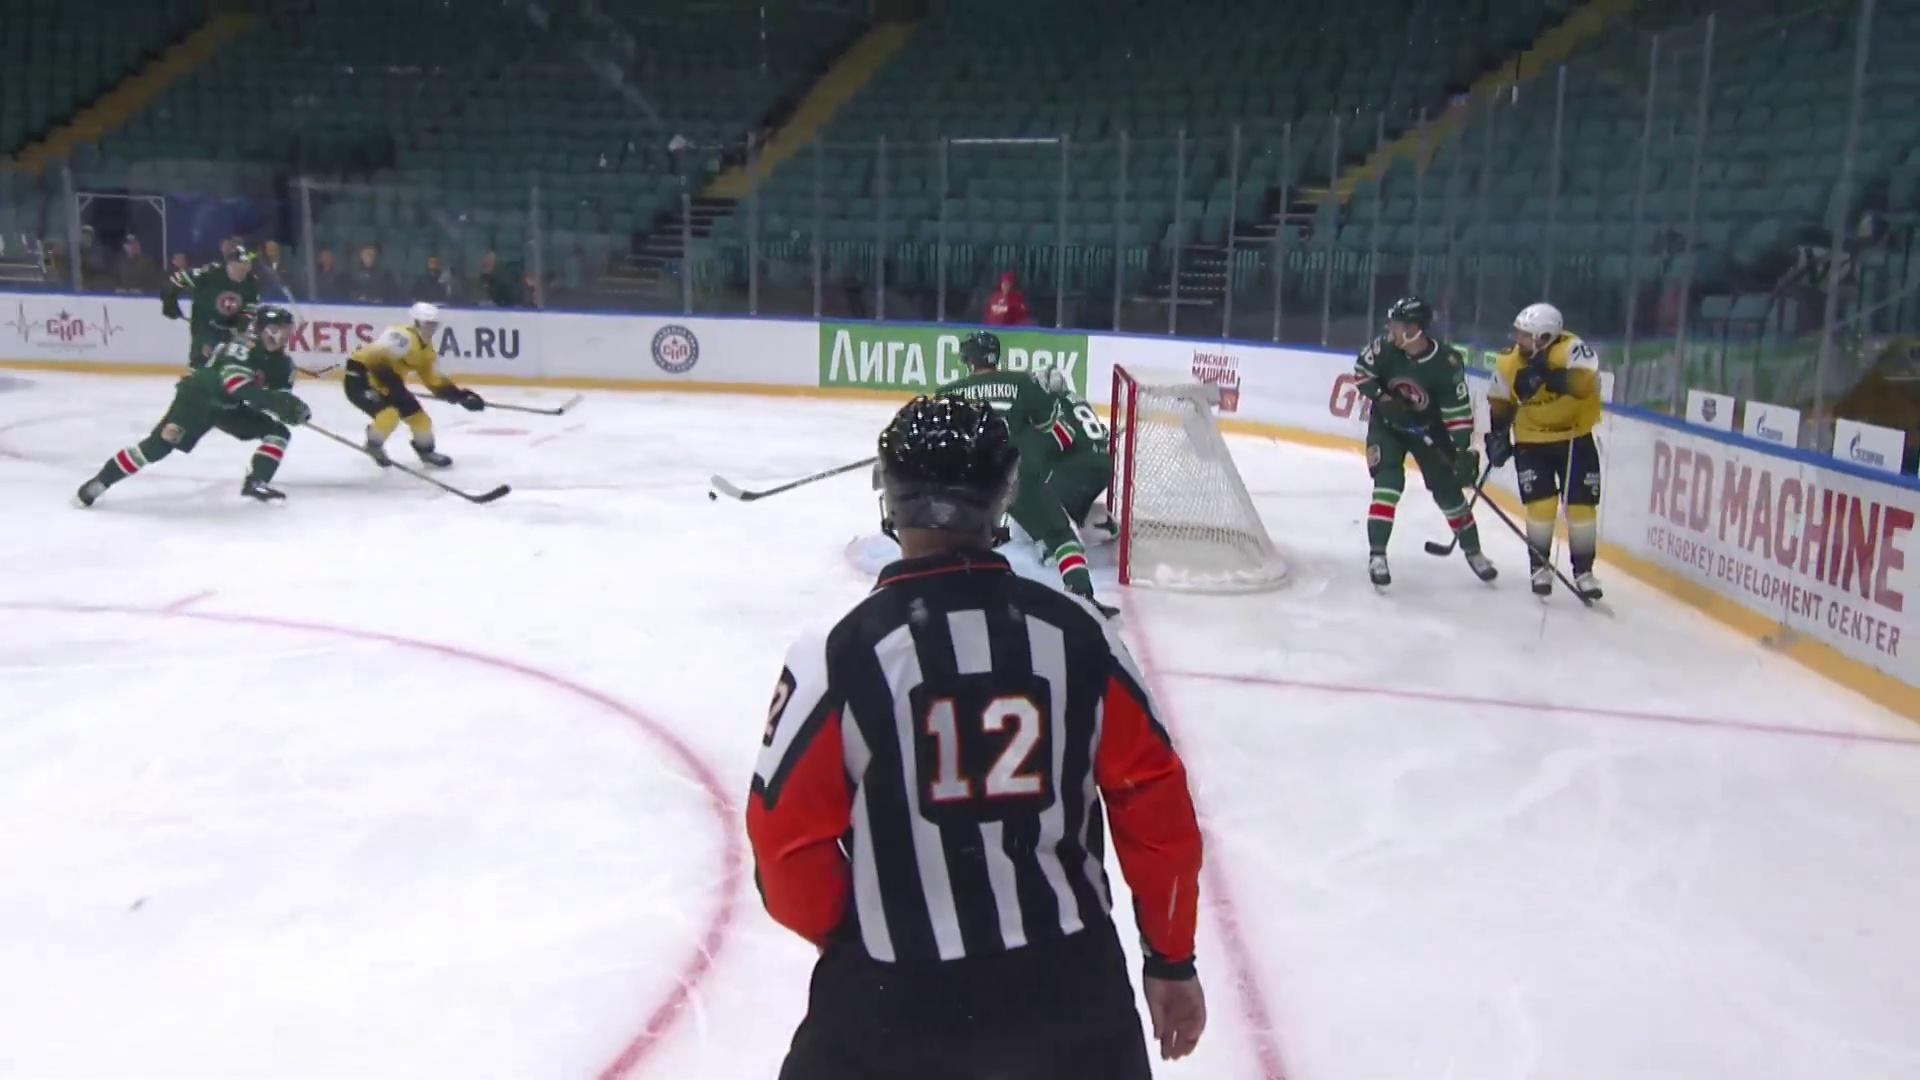ball: (707, 491, 717, 502)
